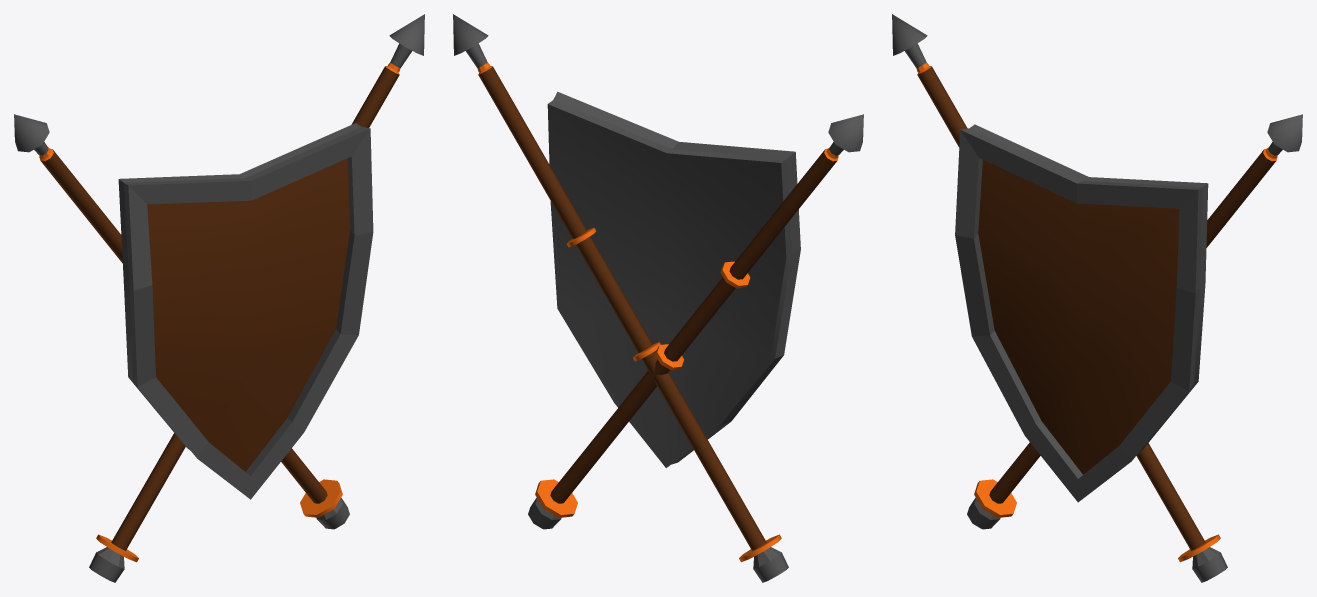
Rendered from Shield and Crossed Spears.FBX.
3 renders of one model, left to right at view 1: azimuth 30°, elevation 25°; view 2: azimuth 150°, elevation 25°; view 3: azimuth 330°, elevation 25°, orthographic.
Visible parts, largest first — view 1: Shield 001, Spear, Spear001; view 2: Shield 001, Spear001, Spear; view 3: Shield 001, Spear, Spear001.
Boxes of the visible parts, bbox=[...] form: Shield 001: bbox=[118, 123, 373, 499]; Spear: bbox=[14, 114, 349, 529]; Spear001: bbox=[89, 14, 424, 582]; Shield 001: bbox=[547, 91, 800, 467]; Spear001: bbox=[453, 14, 788, 582]; Spear: bbox=[528, 114, 863, 529]; Shield 001: bbox=[955, 124, 1208, 502]; Spear: bbox=[892, 14, 1227, 582]; Spear001: bbox=[967, 114, 1302, 529].
Bounding box in the file's own units: 1.75 × 1.99 × 0.3029.
